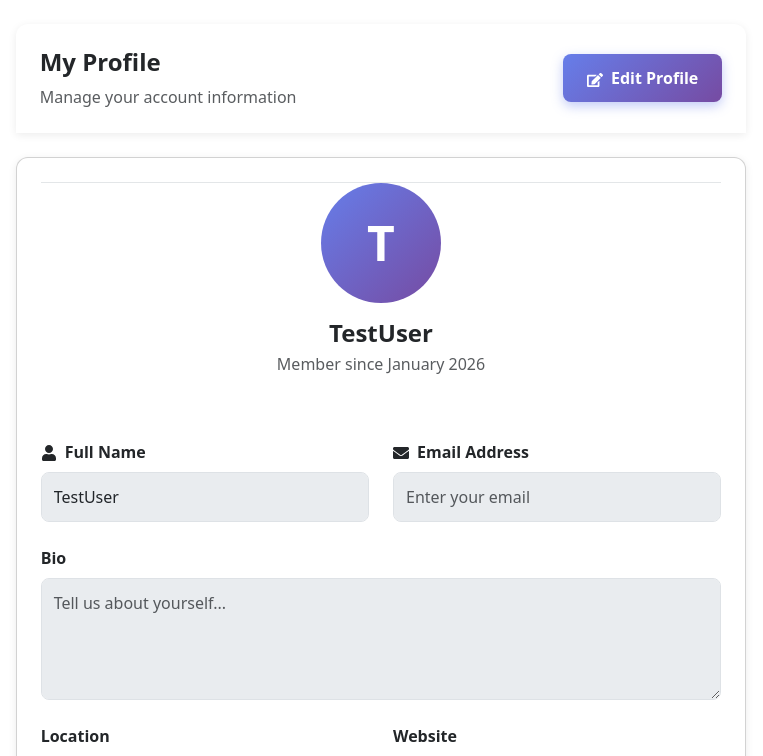
Scenario: Profile Page › exits edit mode when Cancel button is clicked
The image size is (763, 756).
Step 1. Click the button "Edit Profile" → (643, 78), box [563,54,722,102]
(page scrolled)
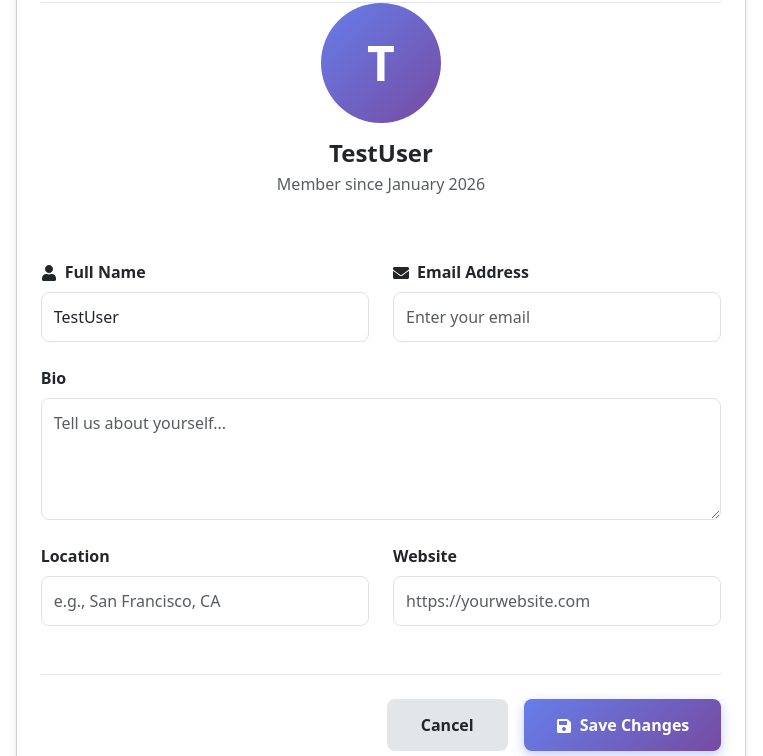
Step 2. Click the button "Cancel" → (447, 725), box [387,699,508,751]
(page scrolled)
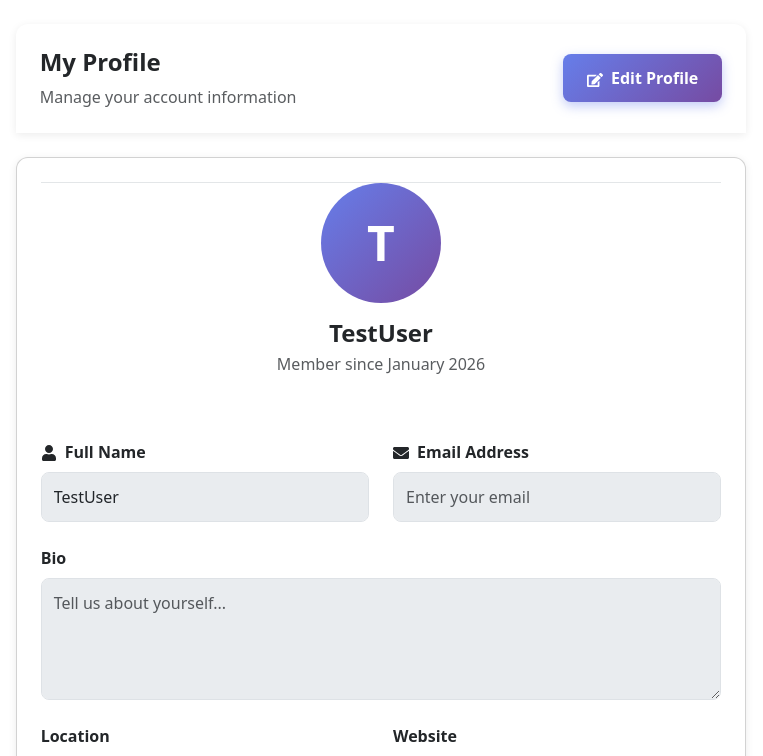
expect the button "Edit Profile" is shown: met, box [563,54,722,102]
